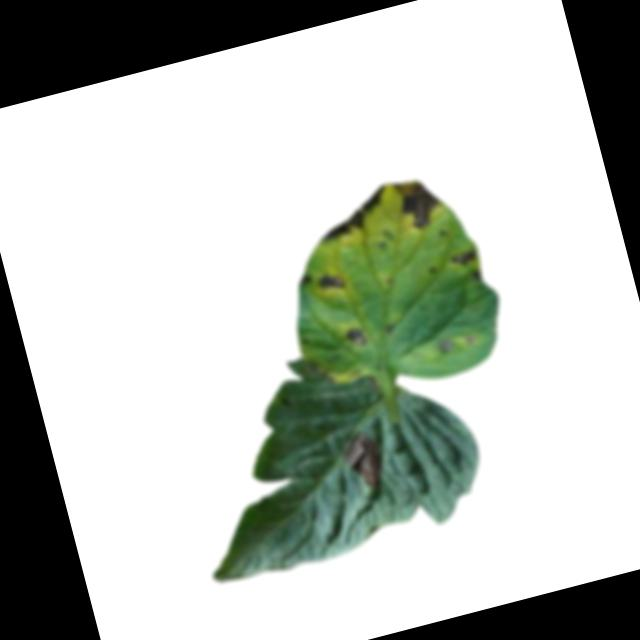Early_blight: (312, 184, 397, 244), (338, 427, 392, 494), (395, 172, 449, 234), (317, 269, 347, 296), (343, 324, 370, 350), (450, 248, 478, 269), (472, 269, 485, 284), (299, 272, 312, 286)
